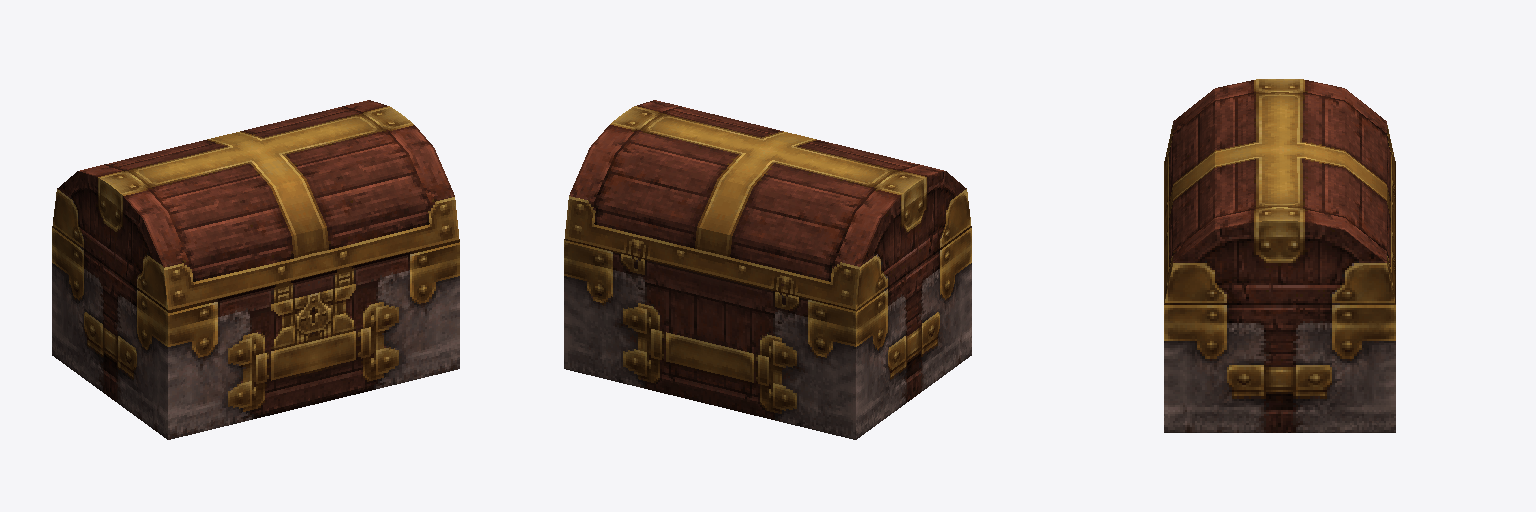
The picture shows the model from 3 angles: view 1: azimuth 30°, elevation 25°; view 2: azimuth 150°, elevation 25°; view 3: azimuth 270°, elevation 25°; orthographic projection.
Visible parts, largest first — view 1: treasure; view 2: treasure; view 3: treasure.
Part boxes in pixels (x1,y1,x2,y2): treasure: (52,100,459,439); treasure: (564,100,971,439); treasure: (1164,79,1395,432).
Bounding box in the file's own units: 8006 × 5582 × 5504.
1 materials, 1 textured.